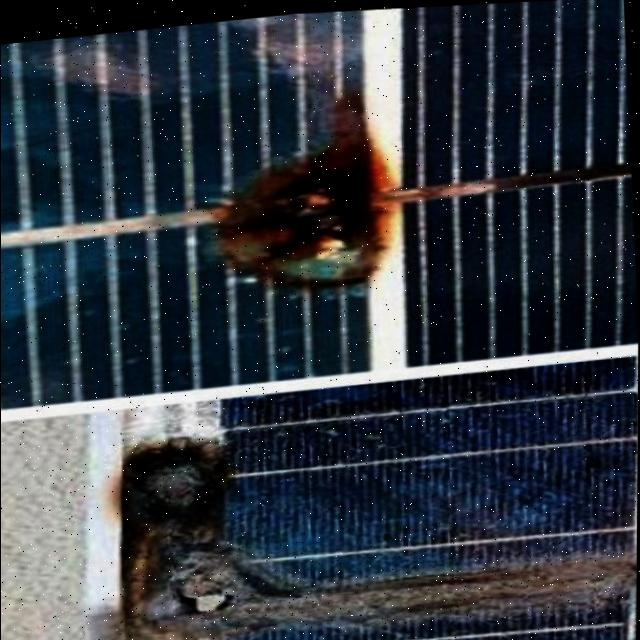Anomaly Solar Panel: (0, 0, 640, 411), (82, 350, 638, 640)
Structural Damage: (106, 384, 638, 640), (185, 81, 407, 306)
